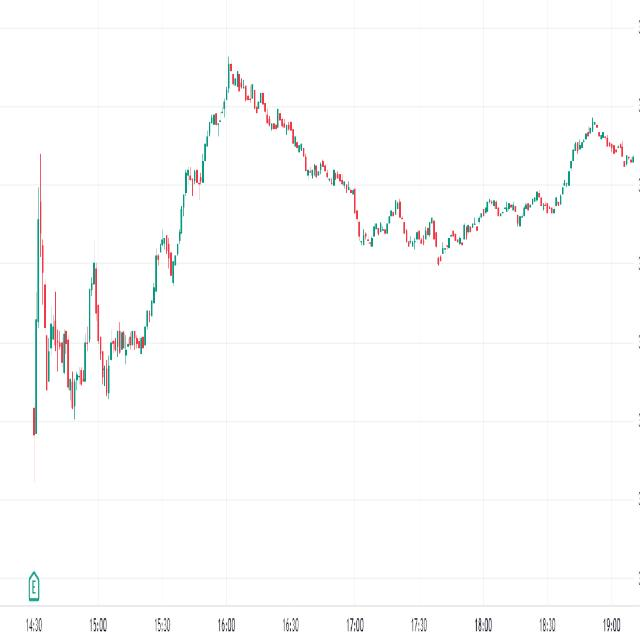Channel-down: (224, 27, 363, 252)
